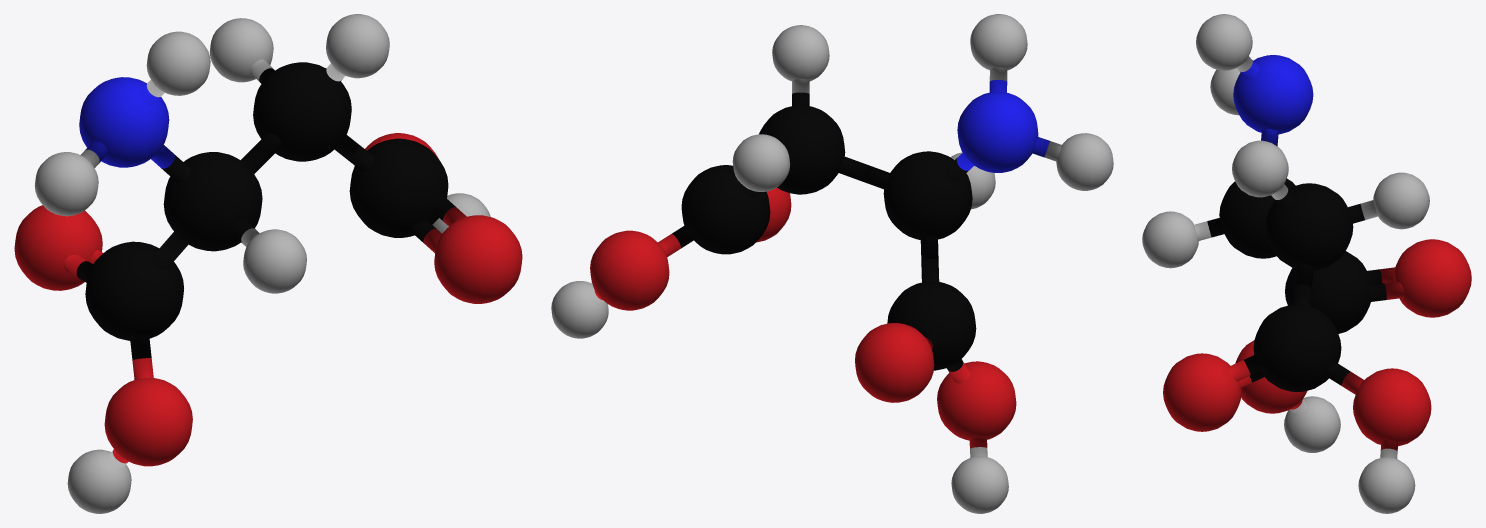
The model's file is asset.glb.
3 views of the same model, side by side, from view 1: azimuth 30°, elevation 25°; view 2: azimuth 150°, elevation 25°; view 3: azimuth 270°, elevation 25° (orthographic). The views are drawn at different scales.
Visible parts, largest first — view 1: Shape_Sphere.007, Shape_Sphere.006, Shape_Sphere.005, Shape_Sphere.008, Shape_Sphere.003, Shape_Sphere, Shape_Sphere.004, Shape_Sphere.002, Shape_Sphere.013, Shape_Sphere.010, Shape_Sphere.009, Shape_Sphere.012 (+3 smaller); view 2: Shape_Sphere.005, Shape_Sphere.008, Shape_Sphere.004, Shape_Sphere.001, Shape_Sphere.002, Shape_Sphere.006, Shape_Sphere, Shape_Sphere.007, Shape_Sphere.011, Shape_Sphere.014, Shape_Sphere.013, Shape_Sphere.010 (+4 smaller); view 3: Shape_Sphere.008, Shape_Sphere.006, Shape_Sphere.003, Shape_Sphere.001, Shape_Sphere.004, Shape_Sphere.002, Shape_Sphere.007, Shape_Sphere.005, Shape_Sphere.012, Shape_Sphere.010, Shape_Sphere.015, Shape_Sphere.011 (+5 smaller).
Part boxes in pixels (x1=…): Shape_Sphere.007: x1=85, y1=241, x2=183, y2=340; Shape_Sphere.006: x1=253, y1=62, x2=351, y2=161; Shape_Sphere.005: x1=163, y1=152, x2=262, y2=251; Shape_Sphere.008: x1=349, y1=138, x2=448, y2=237; Shape_Sphere.003: x1=434, y1=215, x2=522, y2=303; Shape_Sphere: x1=104, y1=377, x2=192, y2=466; Shape_Sphere.004: x1=79, y1=77, x2=169, y2=167; Shape_Sphere.002: x1=14, y1=205, x2=102, y2=290; Shape_Sphere.013: x1=34, y1=152, x2=98, y2=216; Shape_Sphere.010: x1=326, y1=14, x2=389, y2=78; Shape_Sphere.009: x1=243, y1=229, x2=306, y2=293; Shape_Sphere.012: x1=146, y1=31, x2=210, y2=95; Shape_Sphere.005: x1=883, y1=151, x2=972, y2=239; Shape_Sphere.008: x1=681, y1=165, x2=770, y2=254; Shape_Sphere.004: x1=957, y1=91, x2=1038, y2=172; Shape_Sphere.001: x1=590, y1=230, x2=669, y2=310; Shape_Sphere.002: x1=855, y1=323, x2=934, y2=402; Shape_Sphere.006: x1=759, y1=105, x2=845, y2=194; Shape_Sphere: x1=937, y1=361, x2=1016, y2=440; Shape_Sphere.007: x1=887, y1=281, x2=976, y2=370; Shape_Sphere.011: x1=732, y1=134, x2=790, y2=191; Shape_Sphere.014: x1=951, y1=456, x2=1008, y2=513; Shape_Sphere.013: x1=1056, y1=133, x2=1113, y2=190; Shape_Sphere.010: x1=772, y1=25, x2=829, y2=81; Shape_Sphere.008: x1=1253, y1=304, x2=1341, y2=391; Shape_Sphere.006: x1=1265, y1=183, x2=1353, y2=270; Shape_Sphere.003: x1=1163, y1=353, x2=1241, y2=431; Shape_Sphere.001: x1=1353, y1=368, x2=1431, y2=446; Shape_Sphere.004: x1=1233, y1=55, x2=1313, y2=134; Shape_Sphere.002: x1=1393, y1=239, x2=1471, y2=317; Shape_Sphere.007: x1=1285, y1=251, x2=1371, y2=333; Shape_Sphere.005: x1=1219, y1=178, x2=1295, y2=258; Shape_Sphere.012: x1=1196, y1=14, x2=1252, y2=70; Shape_Sphere.010: x1=1232, y1=140, x2=1288, y2=197; Shape_Sphere.015: x1=1358, y1=457, x2=1415, y2=513; Shape_Sphere.011: x1=1373, y1=172, x2=1429, y2=229.
Size of the model in its own units: 6.3 by 5.72 by 3.83.
